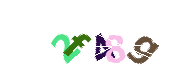2: (36, 0, 116, 80)
4: (61, 0, 141, 80)
8: (75, 0, 155, 80)
F: (51, 0, 131, 80)
G: (75, 0, 155, 80)
